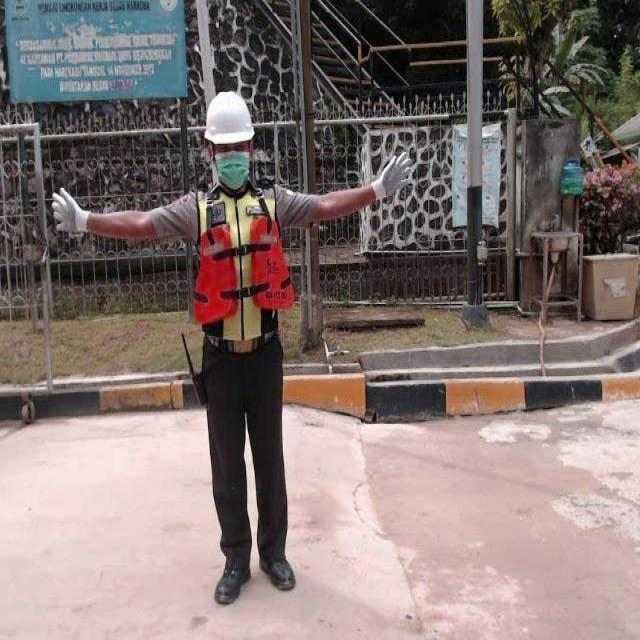vest: (182, 183, 302, 341)
